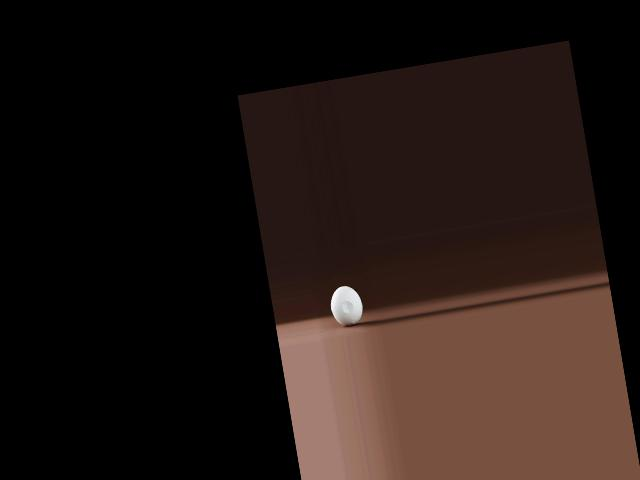egg: (328, 283, 365, 328)
